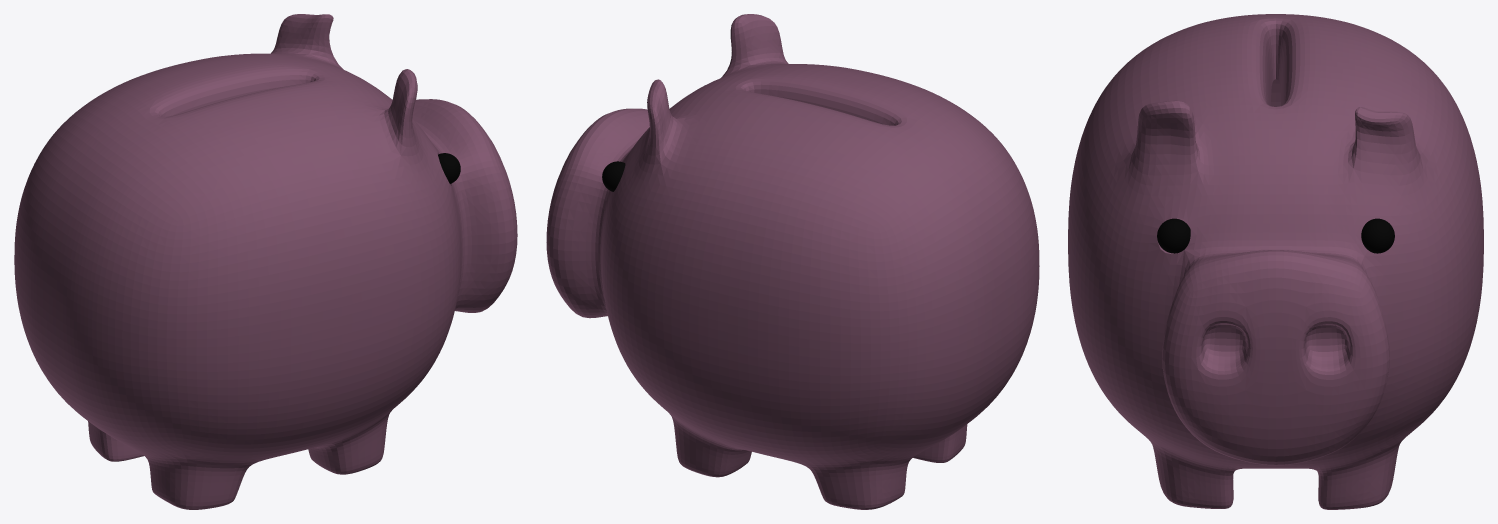
Rendered from pig_collapsed.fbx.
3 views of the same model, side by side, from view 1: azimuth 30°, elevation 25°; view 2: azimuth 150°, elevation 25°; view 3: azimuth 270°, elevation 25° (orthographic). The views are drawn at different scales.
Visible parts, largest first — view 1: pig, pig2; view 2: pig, pig2; view 3: pig2, pig.
Boxes of the visible parts, x1,y1,x2,y2 form: pig: [14, 63, 332, 509]; pig2: [184, 14, 517, 474]; pig: [728, 73, 1039, 509]; pig2: [546, 14, 873, 477]; pig2: [1068, 53, 1483, 509]; pig: [1068, 14, 1483, 254].
Size of the model in its own units: 503 by 429 by 383.
